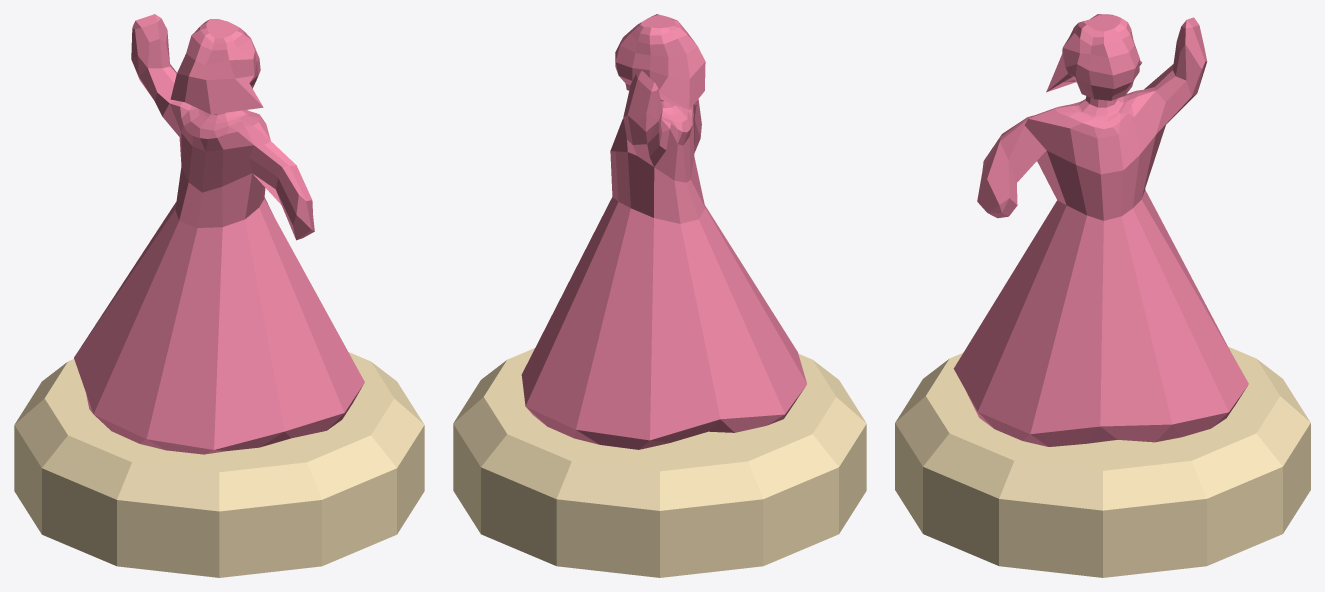
File: dancer.fbx
3 views of the same model, side by side, from view 1: azimuth 30°, elevation 25°; view 2: azimuth 150°, elevation 25°; view 3: azimuth 270°, elevation 25° (orthographic).
Visible parts, largest first — view 1: Cone, Cylinder; view 2: Cone, Cylinder; view 3: Cone, Cylinder.
Boxes of the visible parts, x1=… form: Cone: x1=74, y1=14, x2=364, y2=454; Cylinder: x1=14, y1=352, x2=424, y2=577; Cone: x1=521, y1=14, x2=806, y2=449; Cylinder: x1=453, y1=348, x2=866, y2=577; Cone: x1=953, y1=14, x2=1248, y2=446; Cylinder: x1=895, y1=346, x2=1310, y2=577.
Bounding box in the file's own units: 400 × 501 × 400.
